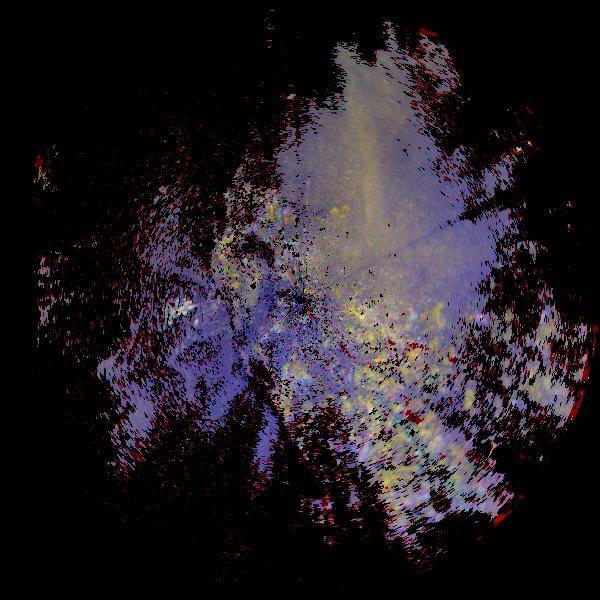roost: (288, 361, 318, 391), (342, 297, 369, 324)
